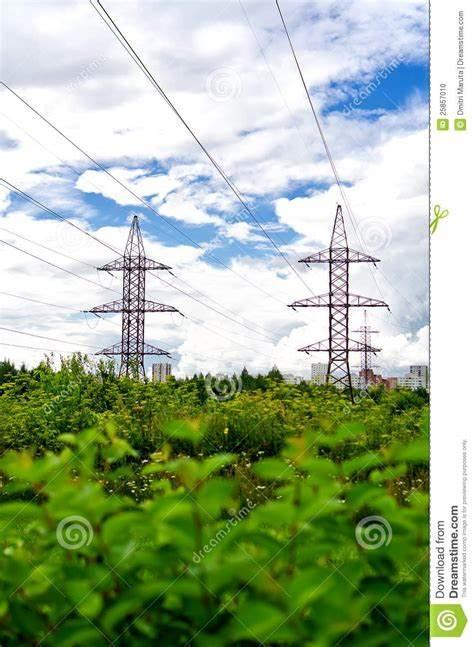power_tower: (284, 200, 384, 392), (85, 210, 174, 387)
